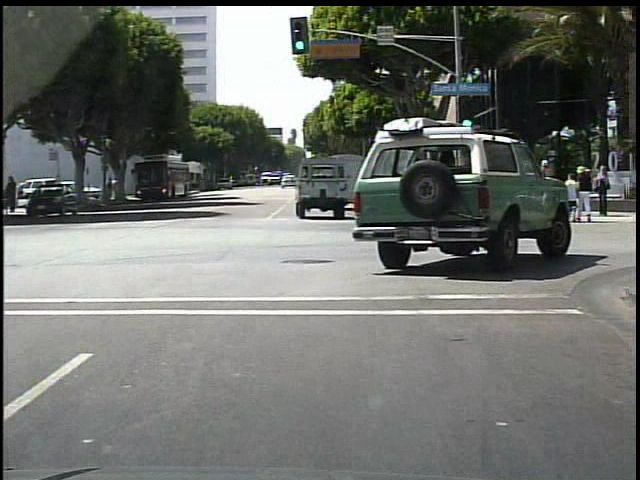person: (574, 165, 593, 223), (594, 166, 612, 218), (562, 173, 579, 221), (514, 160, 529, 214), (474, 170, 491, 216), (505, 167, 519, 216), (505, 164, 519, 212), (464, 166, 475, 216), (535, 159, 557, 180), (116, 176, 125, 205), (106, 177, 115, 200)
